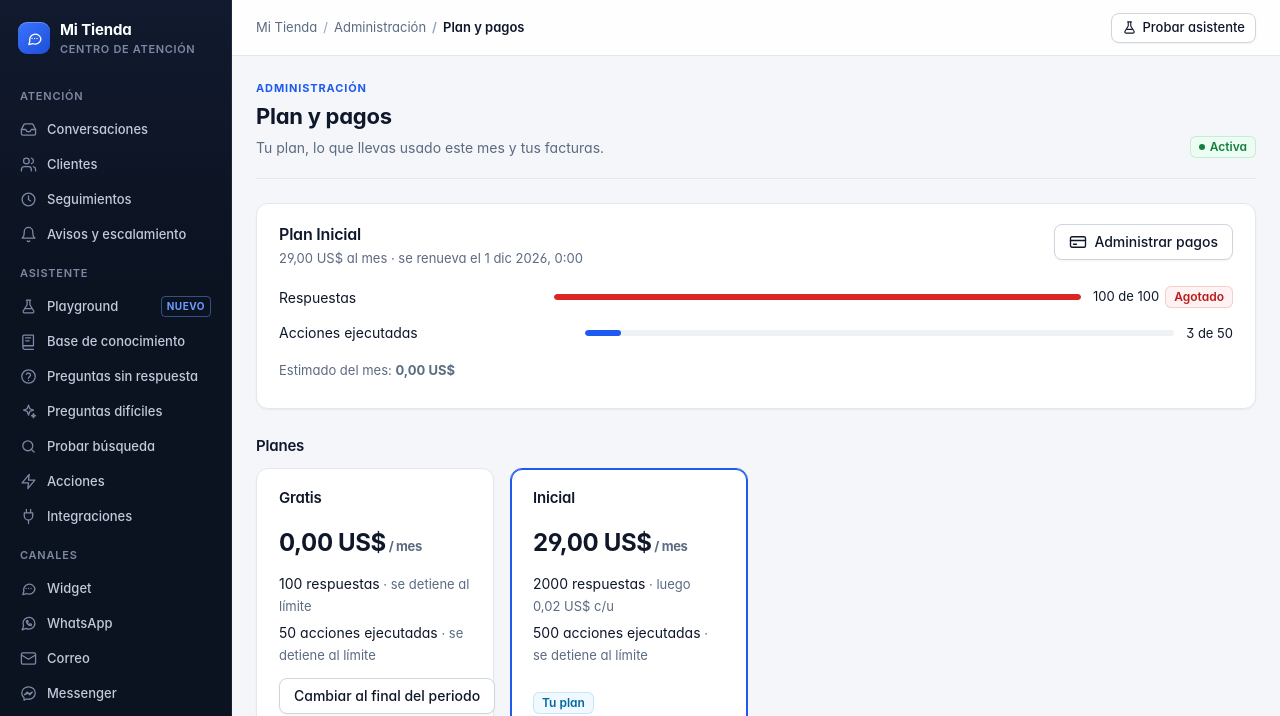
Test case: Plan and payments › changes a live subscription in place
Click the button "Cambiar al final del periodo".
click(387, 696)  # box [279,678,495,714]
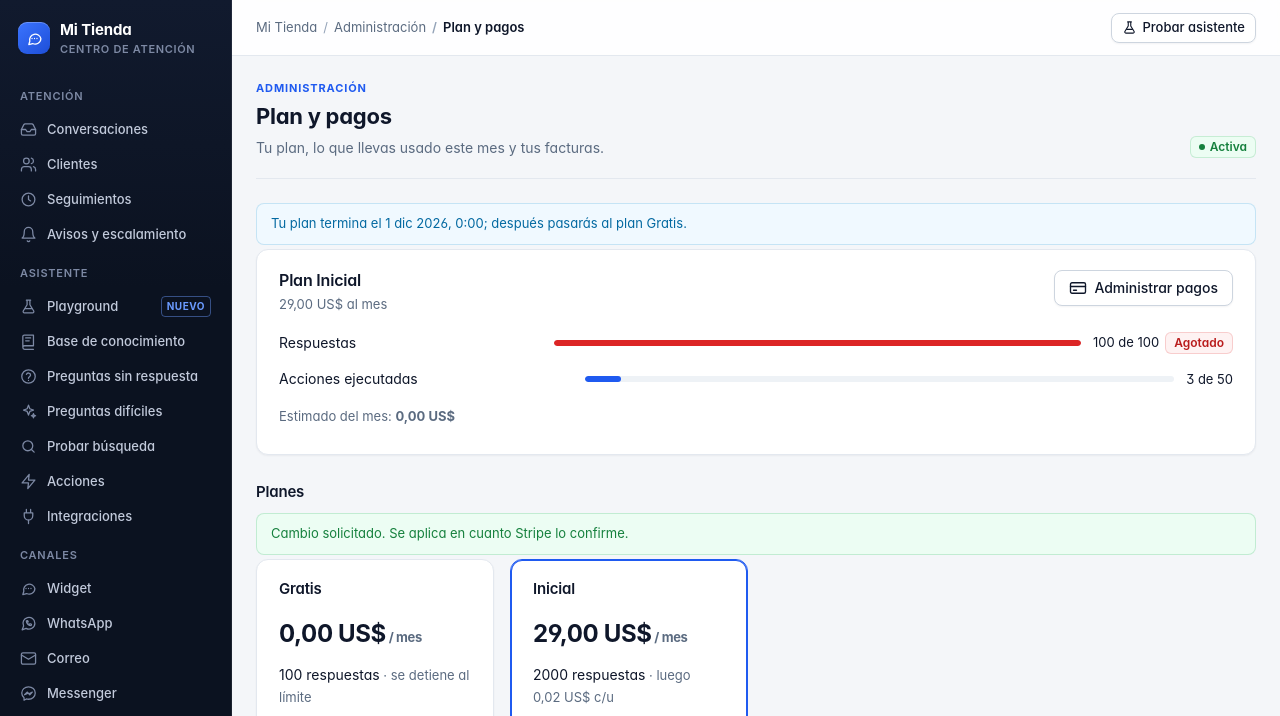
Expected: the text "Cambio solicitado. Se aplica en cuanto Stripe lo confirme." is shown, [256,514,1256,555]
Expected: the text "Tu plan termina el 1 dic 2026, 0:00; después pasarás al plan Gratis." is shown, [256,203,1256,245]
